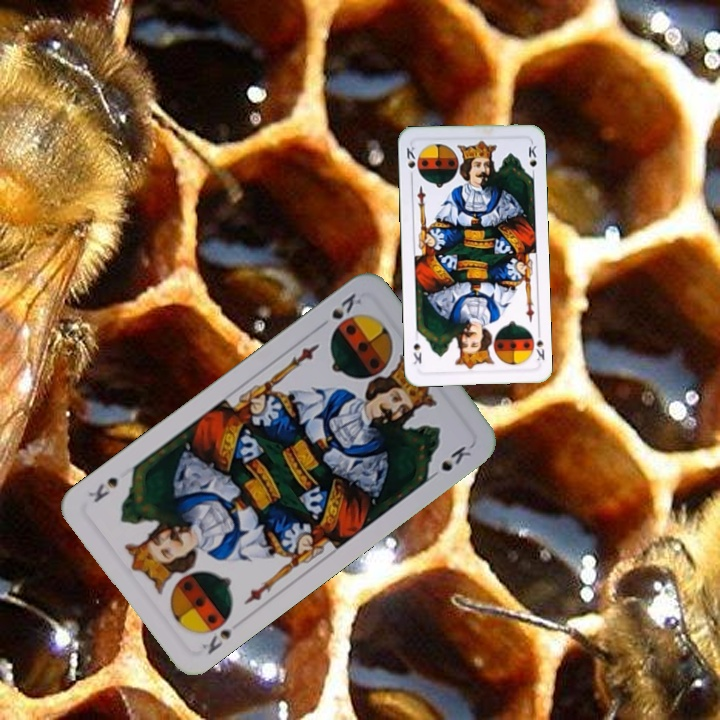SK: (314, 289, 365, 332), (198, 624, 234, 657), (402, 141, 418, 182), (531, 326, 547, 363)
